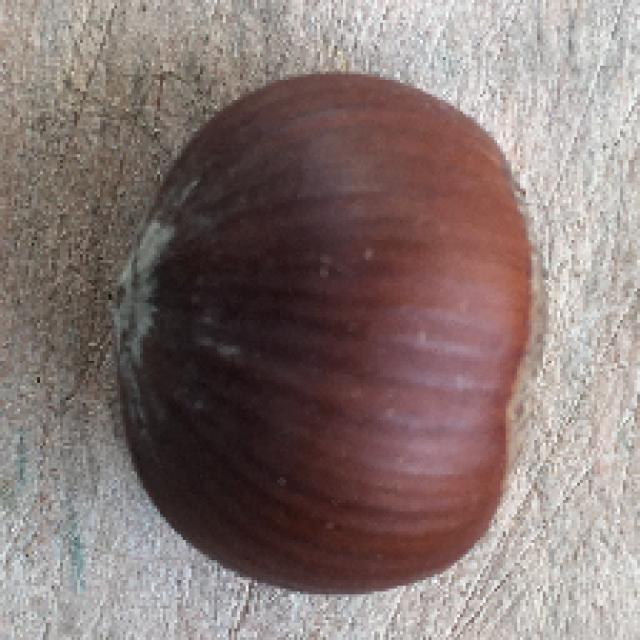qualityHazelnut: (110, 73, 542, 591)
